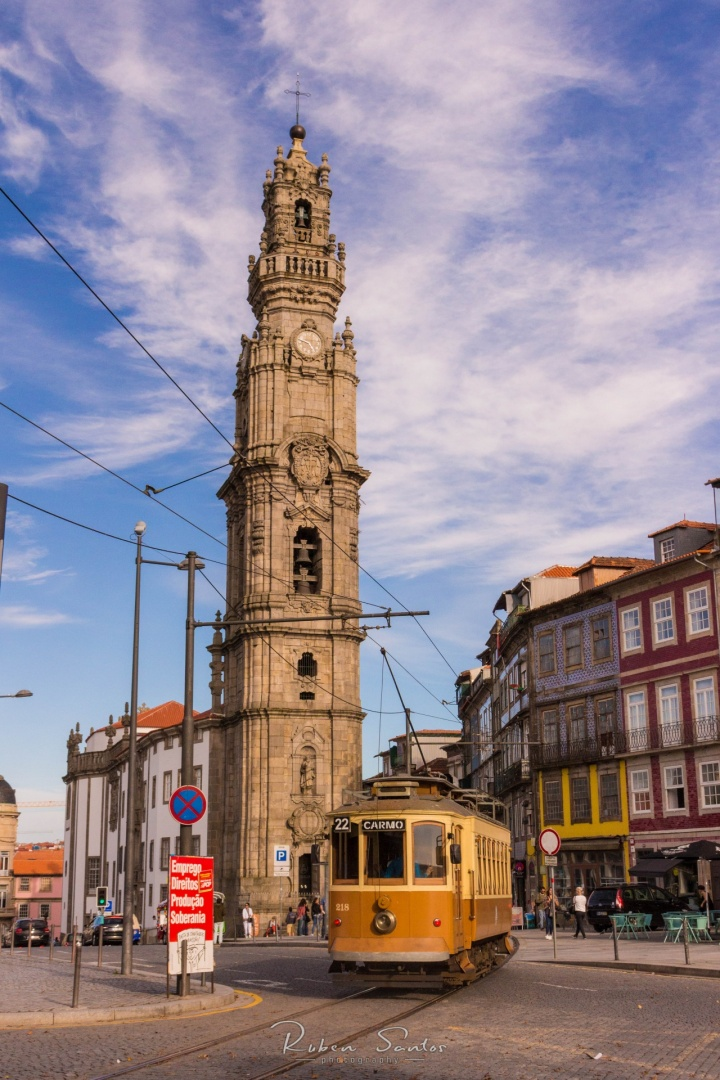clerigos: (206, 73, 367, 940)
